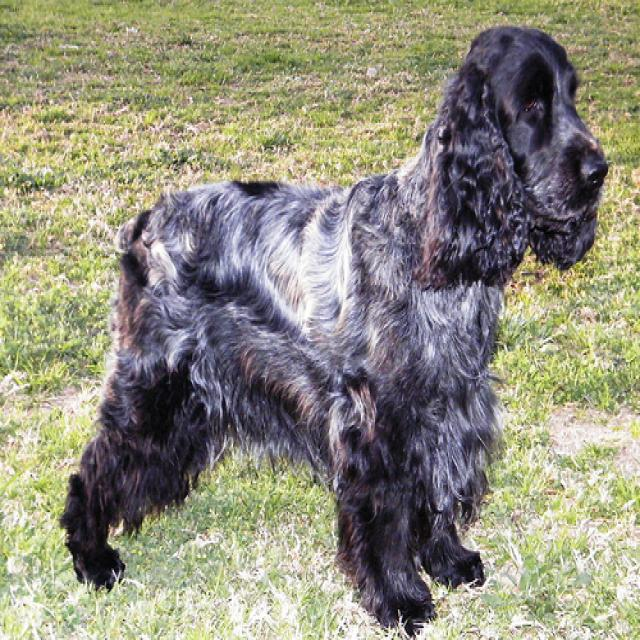dog-english_cocker_spaniel: (49, 14, 614, 637)
